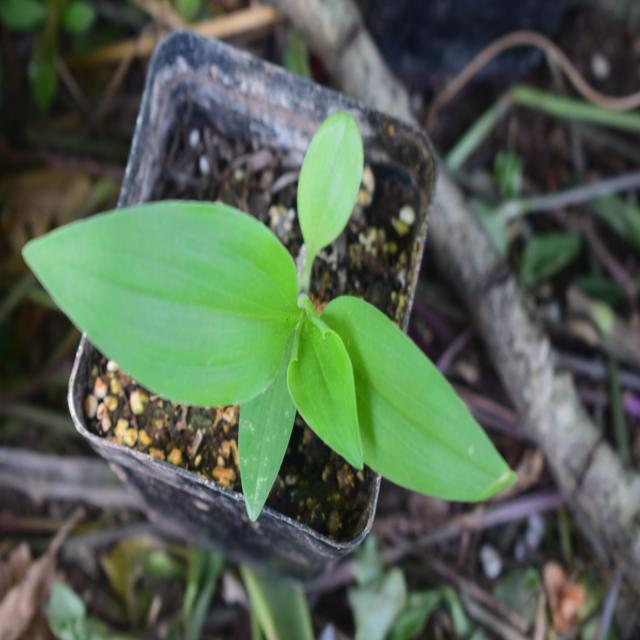Common Dayflower: (43, 144, 501, 533)
